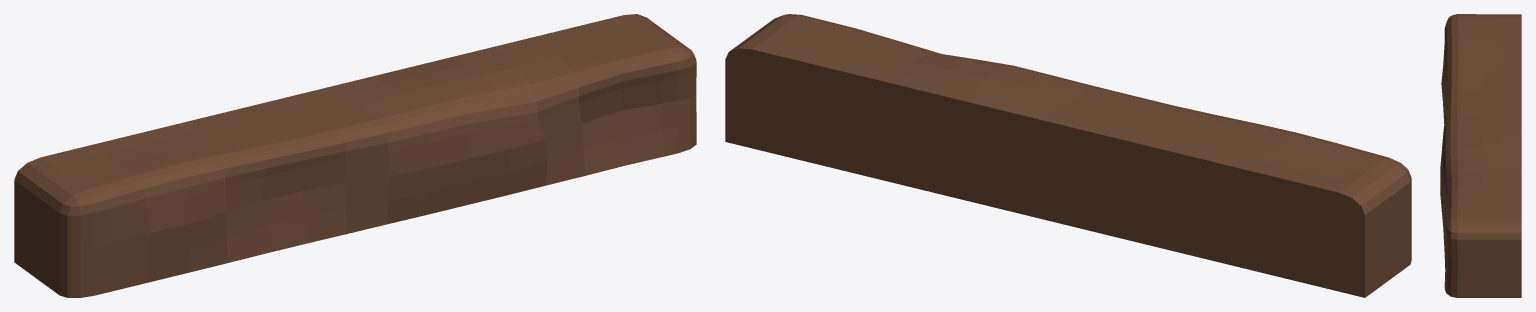
File: Dirt_platform04.fbx
3 views of the same model, side by side, from view 1: azimuth 30°, elevation 25°; view 2: azimuth 150°, elevation 25°; view 3: azimuth 270°, elevation 25° (orthographic). The views are drawn at different scales.
Visible parts, largest first — view 1: Cube.003; view 2: Cube.003; view 3: Cube.003.
Boxes of the visible parts, bbox=[...] form: Cube.003: bbox=[14, 14, 696, 297]; Cube.003: bbox=[725, 14, 1411, 297]; Cube.003: bbox=[1440, 14, 1521, 297].
Bounding box in the file's own units: 1352 × 207 × 211.
